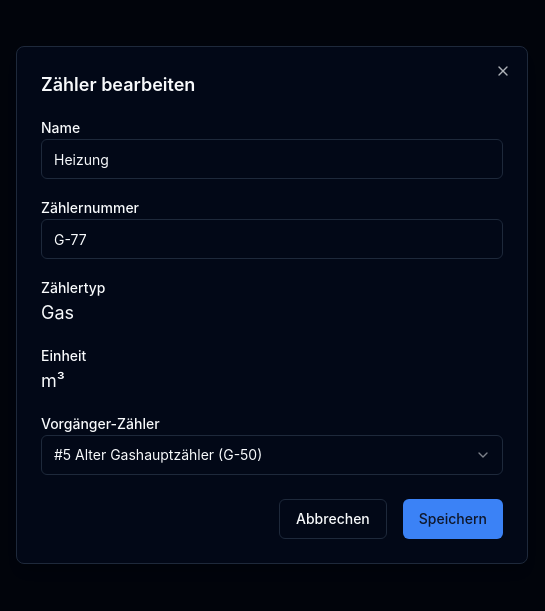
Scenario: EditMeterModal › shows the backend detail on failure and keeps the modal open
This screenshot has width=545, height=611.
Expected: the text "Gas" is shown, 41,302 -> 74,323
Replace the text in the field labelled "Name" with "Konflikt" at (272, 159), box 41,139 -> 503,179
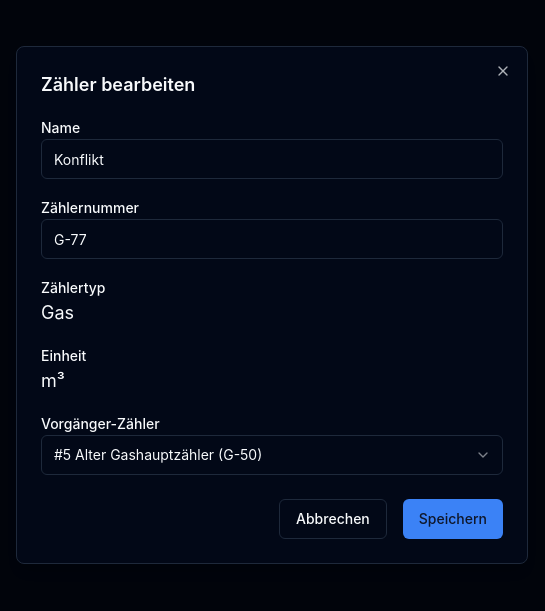
Click the button "Speichern".
click(453, 519)  # box 403,499 -> 503,539
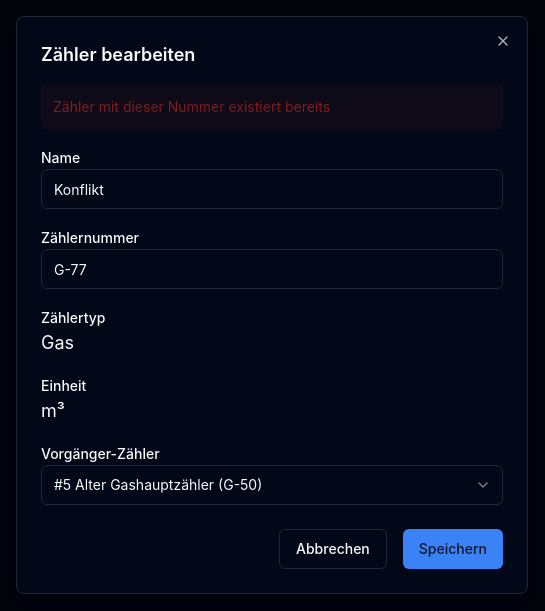
Expected: the heading "Zähler bearbeiten" is shown, 41,44 -> 195,65
Now the text "Zähler mit dieser Nummer existiert bereits" is shown, box 41,85 -> 503,129
